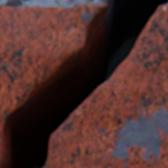broken_brick: (44, 5, 167, 167), (0, 3, 106, 167)
crack: (1, 0, 167, 167)
